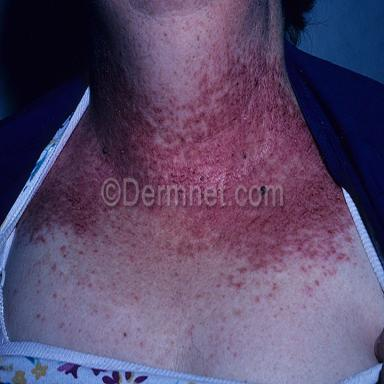Darier_s-Disease: (14, 37, 359, 321)
